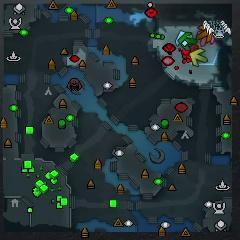x1: (199, 31, 214, 46)
x2: (190, 48, 208, 68)
x3: (175, 31, 194, 46)
x4: (179, 32, 197, 51)
x5: (197, 26, 212, 42)
